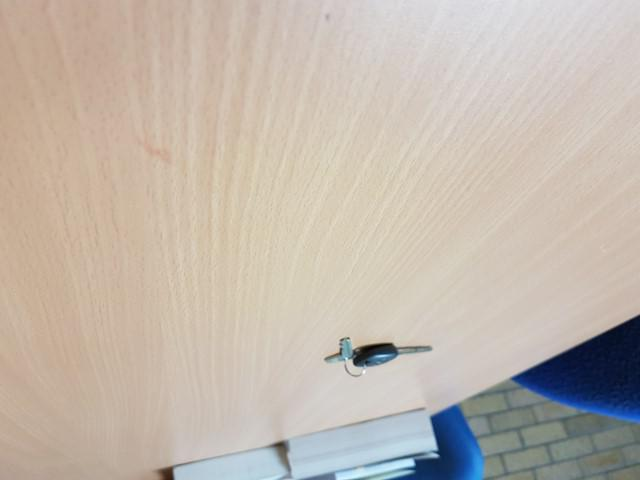key: (349, 343, 435, 371)
